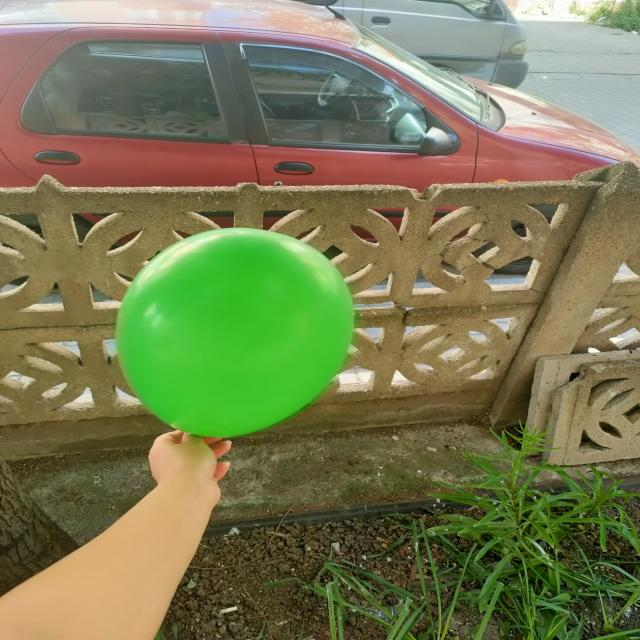green: (119, 230, 356, 439)
